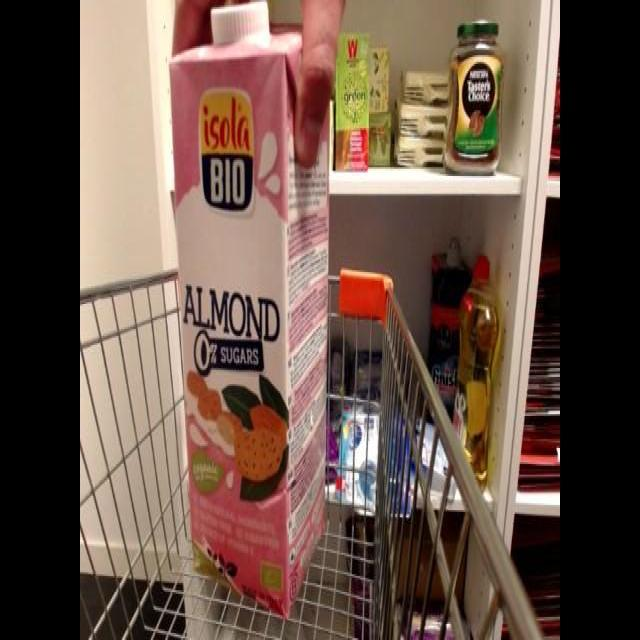Almond Milk: (165, 3, 337, 625)
